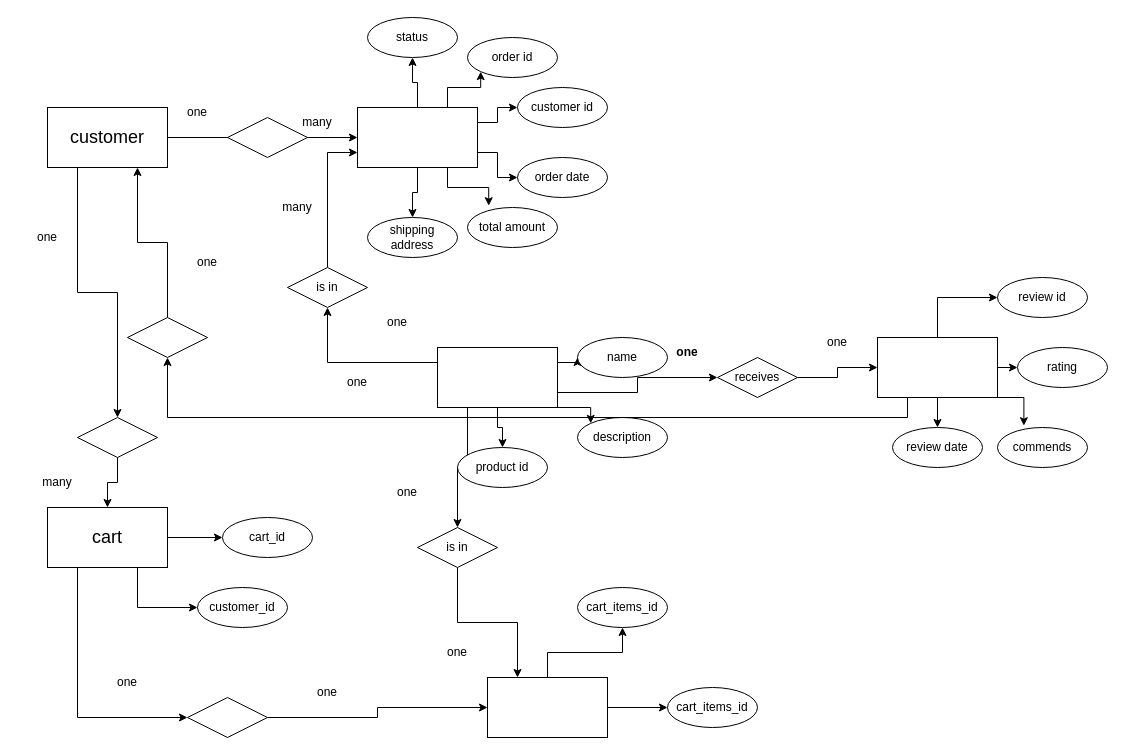
The diagram is 1125 pixels wide and 755 high, and some of its shapes have lost their labels. The shapes that lost their labels are listed below. From the top down, each one's centre as x and y in pixels, then its label:
the point at 267,137: places
the point at 417,137: ORDER
the point at 167,337: writes
the point at 497,377: PRODUCT
the point at 937,367: review
the point at 117,437: has
the point at 227,717: contains
the point at 547,707: cart_item
